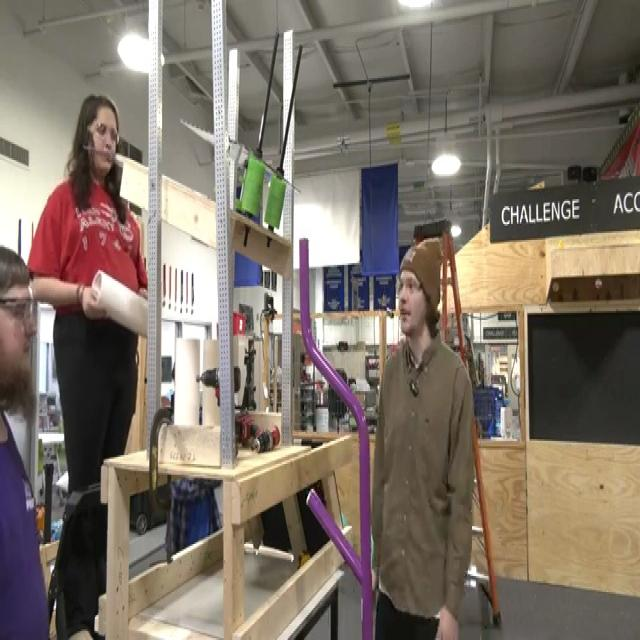Coral: (90, 266, 148, 338), (174, 337, 199, 425), (202, 339, 220, 424)
